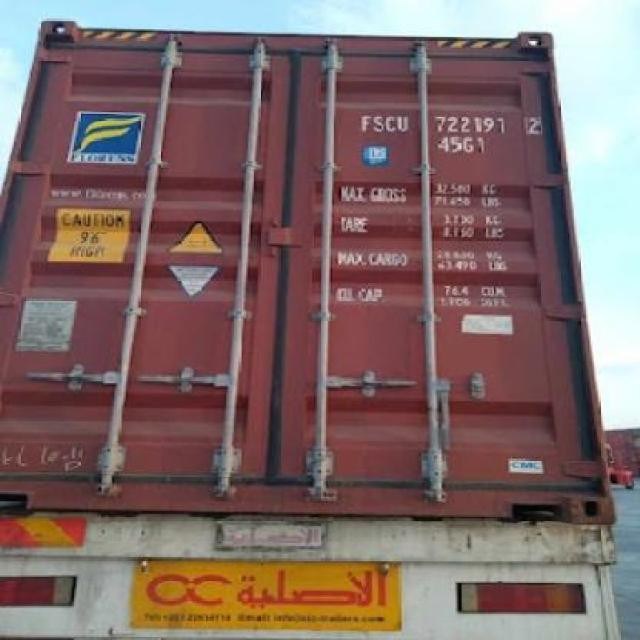ISO: (438, 136, 486, 154)
container_number: (366, 106, 534, 134)
